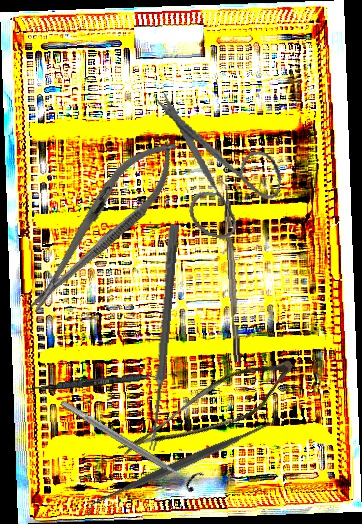Chopper: (215, 176, 241, 363)
Fixation Ring: (54, 391, 206, 496)
Iris Scissors: (124, 89, 296, 250)
Micro Scissor: (113, 330, 302, 496)
Needle Holder: (11, 124, 193, 327)
Spatula Surgical: (79, 410, 284, 519), (27, 367, 177, 396)
Surgical Spoon: (148, 223, 179, 452)
